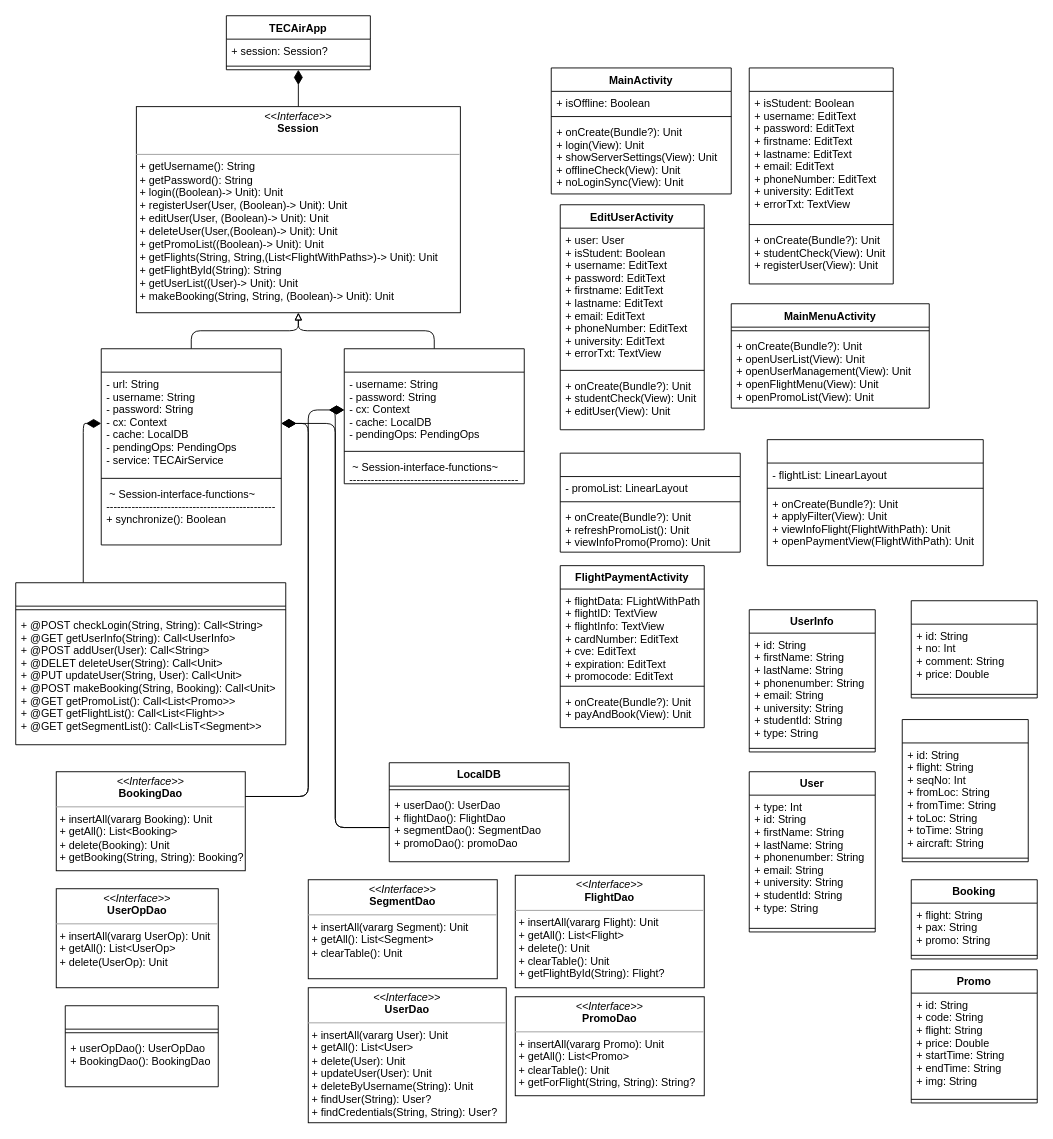
Some shapes in this 1053 by 1139 pixel diagram are drawn without their labels. The shapes that lost their labels are listed below. From the top down, each one's box as (x1, y1, x2, y2) in pixels, then its label:
(748, 67, 893, 284): RegisterUserActivity
(343, 348, 524, 484): OfflineSession
(100, 348, 281, 545): OnlineSession
(559, 452, 740, 552): PromosActivity
(766, 439, 983, 566): FlightsActivity
(15, 582, 286, 745): TECAirService
(910, 600, 1037, 698): Flight
(901, 719, 1028, 862): Segment
(64, 1005, 218, 1087): PendingOps
